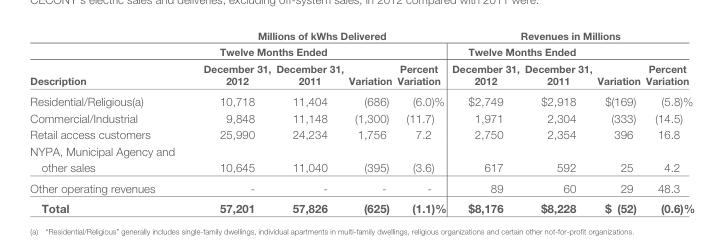table: (29, 28, 694, 214)
table column: (29, 28, 188, 214), (188, 28, 272, 214), (272, 28, 345, 214), (448, 28, 521, 214), (521, 28, 594, 214), (393, 28, 448, 214), (642, 28, 694, 214), (345, 28, 393, 214), (594, 28, 642, 214)
table column header: (29, 28, 694, 90)
table row: (29, 142, 694, 177), (29, 59, 694, 90), (29, 177, 694, 197), (29, 90, 694, 108), (29, 42, 694, 59), (29, 108, 694, 125), (29, 125, 694, 142), (29, 197, 694, 214), (29, 28, 694, 42)
table spanning cell: (29, 28, 188, 90), (188, 28, 448, 42), (448, 28, 694, 42), (188, 42, 345, 59), (393, 42, 448, 90), (642, 42, 694, 90), (448, 42, 594, 59), (345, 42, 393, 90), (594, 42, 642, 90)
